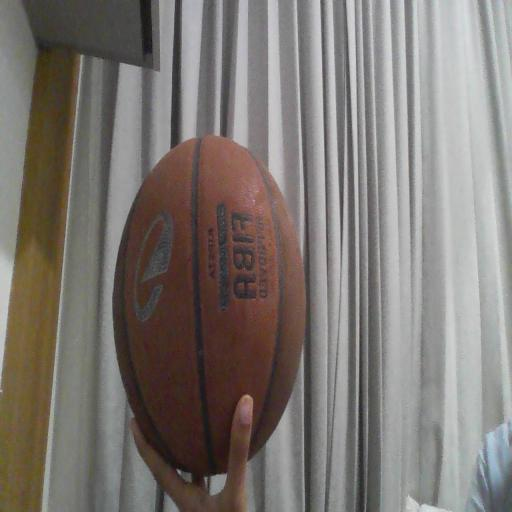basketball: (113, 136, 305, 475)
